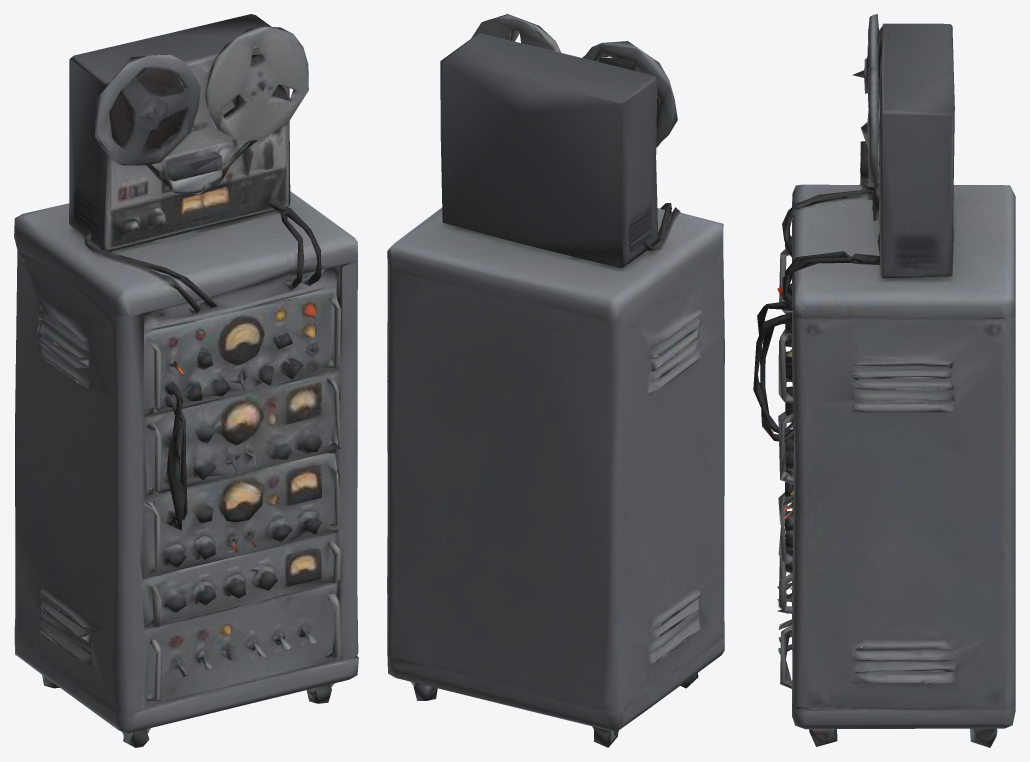
Rendered from radio_receiver.glb.
3 views of the same model, side by side, from view 1: azimuth 30°, elevation 25°; view 2: azimuth 150°, elevation 25°; view 3: azimuth 270°, elevation 25° (orthographic).
Parts seen in each view (by area): view 1: tripo_node_cc16bdf9-f72e-44ce-8429-d302f54b4423; view 2: tripo_node_cc16bdf9-f72e-44ce-8429-d302f54b4423; view 3: tripo_node_cc16bdf9-f72e-44ce-8429-d302f54b4423.
Part boxes in pixels (bbox=[...]): tripo_node_cc16bdf9-f72e-44ce-8429-d302f54b4423: bbox=[14, 14, 358, 747]; tripo_node_cc16bdf9-f72e-44ce-8429-d302f54b4423: bbox=[387, 14, 724, 747]; tripo_node_cc16bdf9-f72e-44ce-8429-d302f54b4423: bbox=[753, 14, 1015, 747].
Bounding box in the file's own units: 0.391 × 0.9819 × 0.3557.
Materials: 1 (1 with a texture image).
